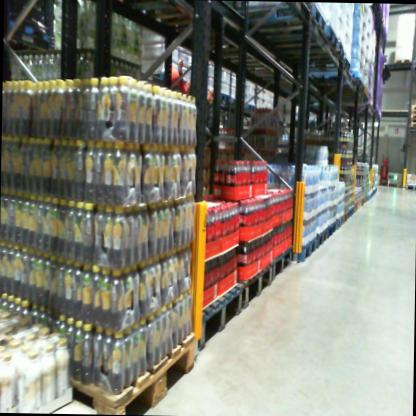pallet: (61, 328, 199, 415), (225, 20, 345, 55), (193, 280, 246, 350), (237, 6, 333, 38), (269, 36, 351, 65), (230, 262, 273, 313), (275, 55, 350, 72), (322, 84, 369, 104), (268, 246, 294, 282), (287, 235, 317, 258), (309, 224, 329, 251), (332, 99, 375, 106), (320, 218, 335, 237), (334, 213, 345, 231), (340, 208, 349, 224), (346, 206, 355, 219), (405, 181, 416, 191), (410, 122, 416, 129), (410, 103, 416, 109), (411, 112, 416, 118), (410, 117, 416, 122), (411, 109, 416, 114)
